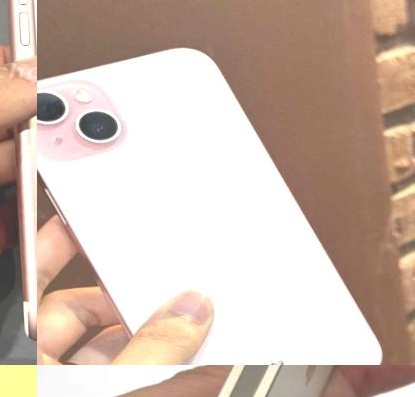scratch: (10, 138, 37, 321)
